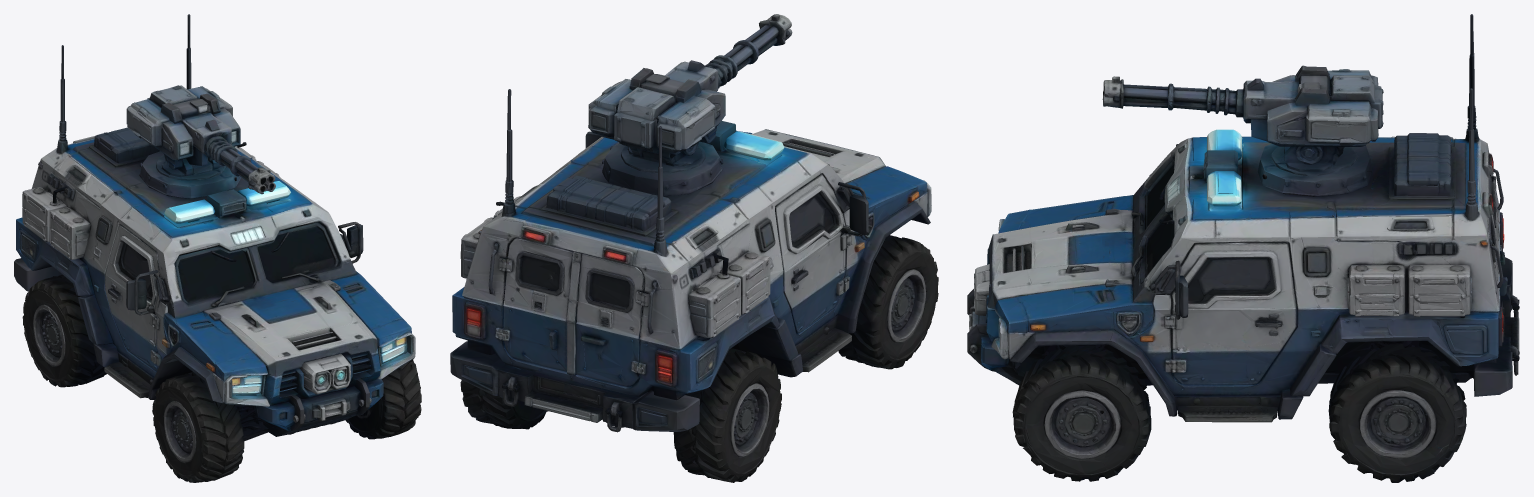
Rendered from citadel-vehicle.glb.
3 renders of one model, left to right at view 1: azimuth 30°, elevation 25°; view 2: azimuth 150°, elevation 25°; view 3: azimuth 270°, elevation 25°, orthographic. The views are drawn at different scales.
Parts seen in each view (by area): view 1: geometry_0; view 2: geometry_0; view 3: geometry_0.
Boxes of the visible parts, box(x1,y1,x2,y2) form: geometry_0: box(14, 14, 421, 482); geometry_0: box(450, 14, 938, 482); geometry_0: box(967, 14, 1519, 482).
Size of the model in its own units: 0.5941 by 0.7411 by 0.9999.
1 material, 1 textured.
